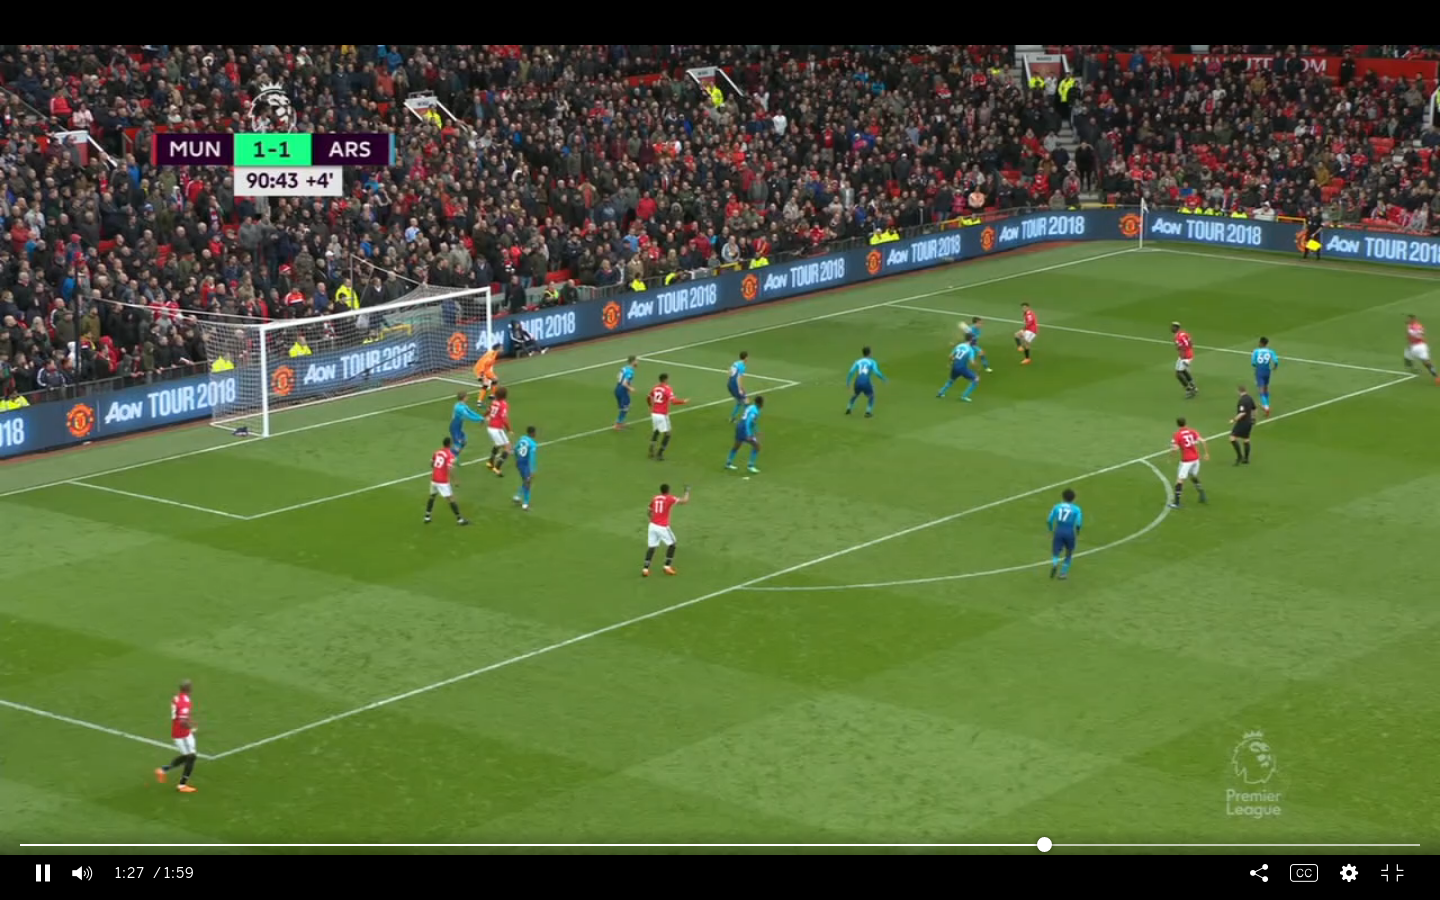referee: (1228, 386, 1255, 466)
soccer player: (155, 672, 221, 809), (633, 482, 693, 582), (1167, 409, 1216, 517), (1041, 485, 1088, 576), (421, 434, 467, 525), (642, 374, 688, 459), (508, 419, 547, 511), (839, 343, 887, 417), (725, 394, 765, 474), (468, 342, 510, 409), (1167, 317, 1199, 399), (1401, 308, 1436, 383), (484, 385, 513, 466), (615, 352, 641, 436), (947, 332, 973, 409), (445, 391, 479, 451), (719, 348, 753, 409), (1253, 339, 1276, 420), (1018, 297, 1036, 371)
